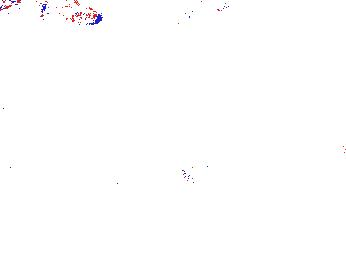X-ray fish: (182, 159, 211, 184)
glassfish: (292, 46, 346, 76)
red belly glassfish: (41, 1, 103, 27)
redtail glassfish: (179, 1, 231, 21)
